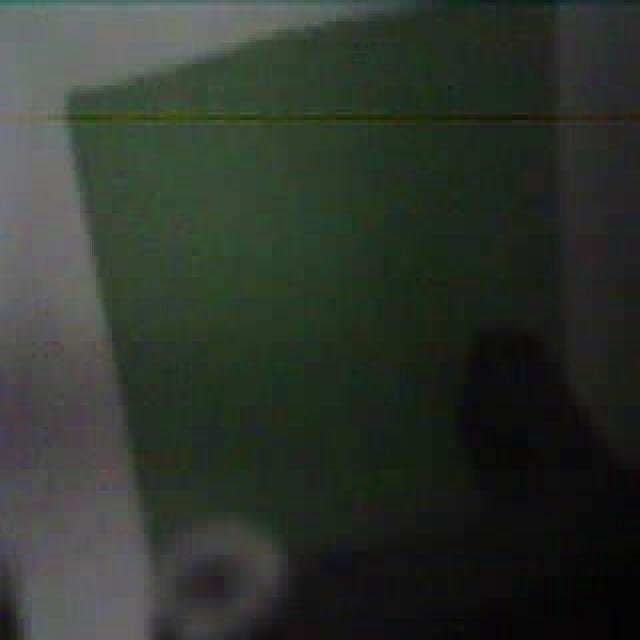green_box: (61, 12, 599, 610)
